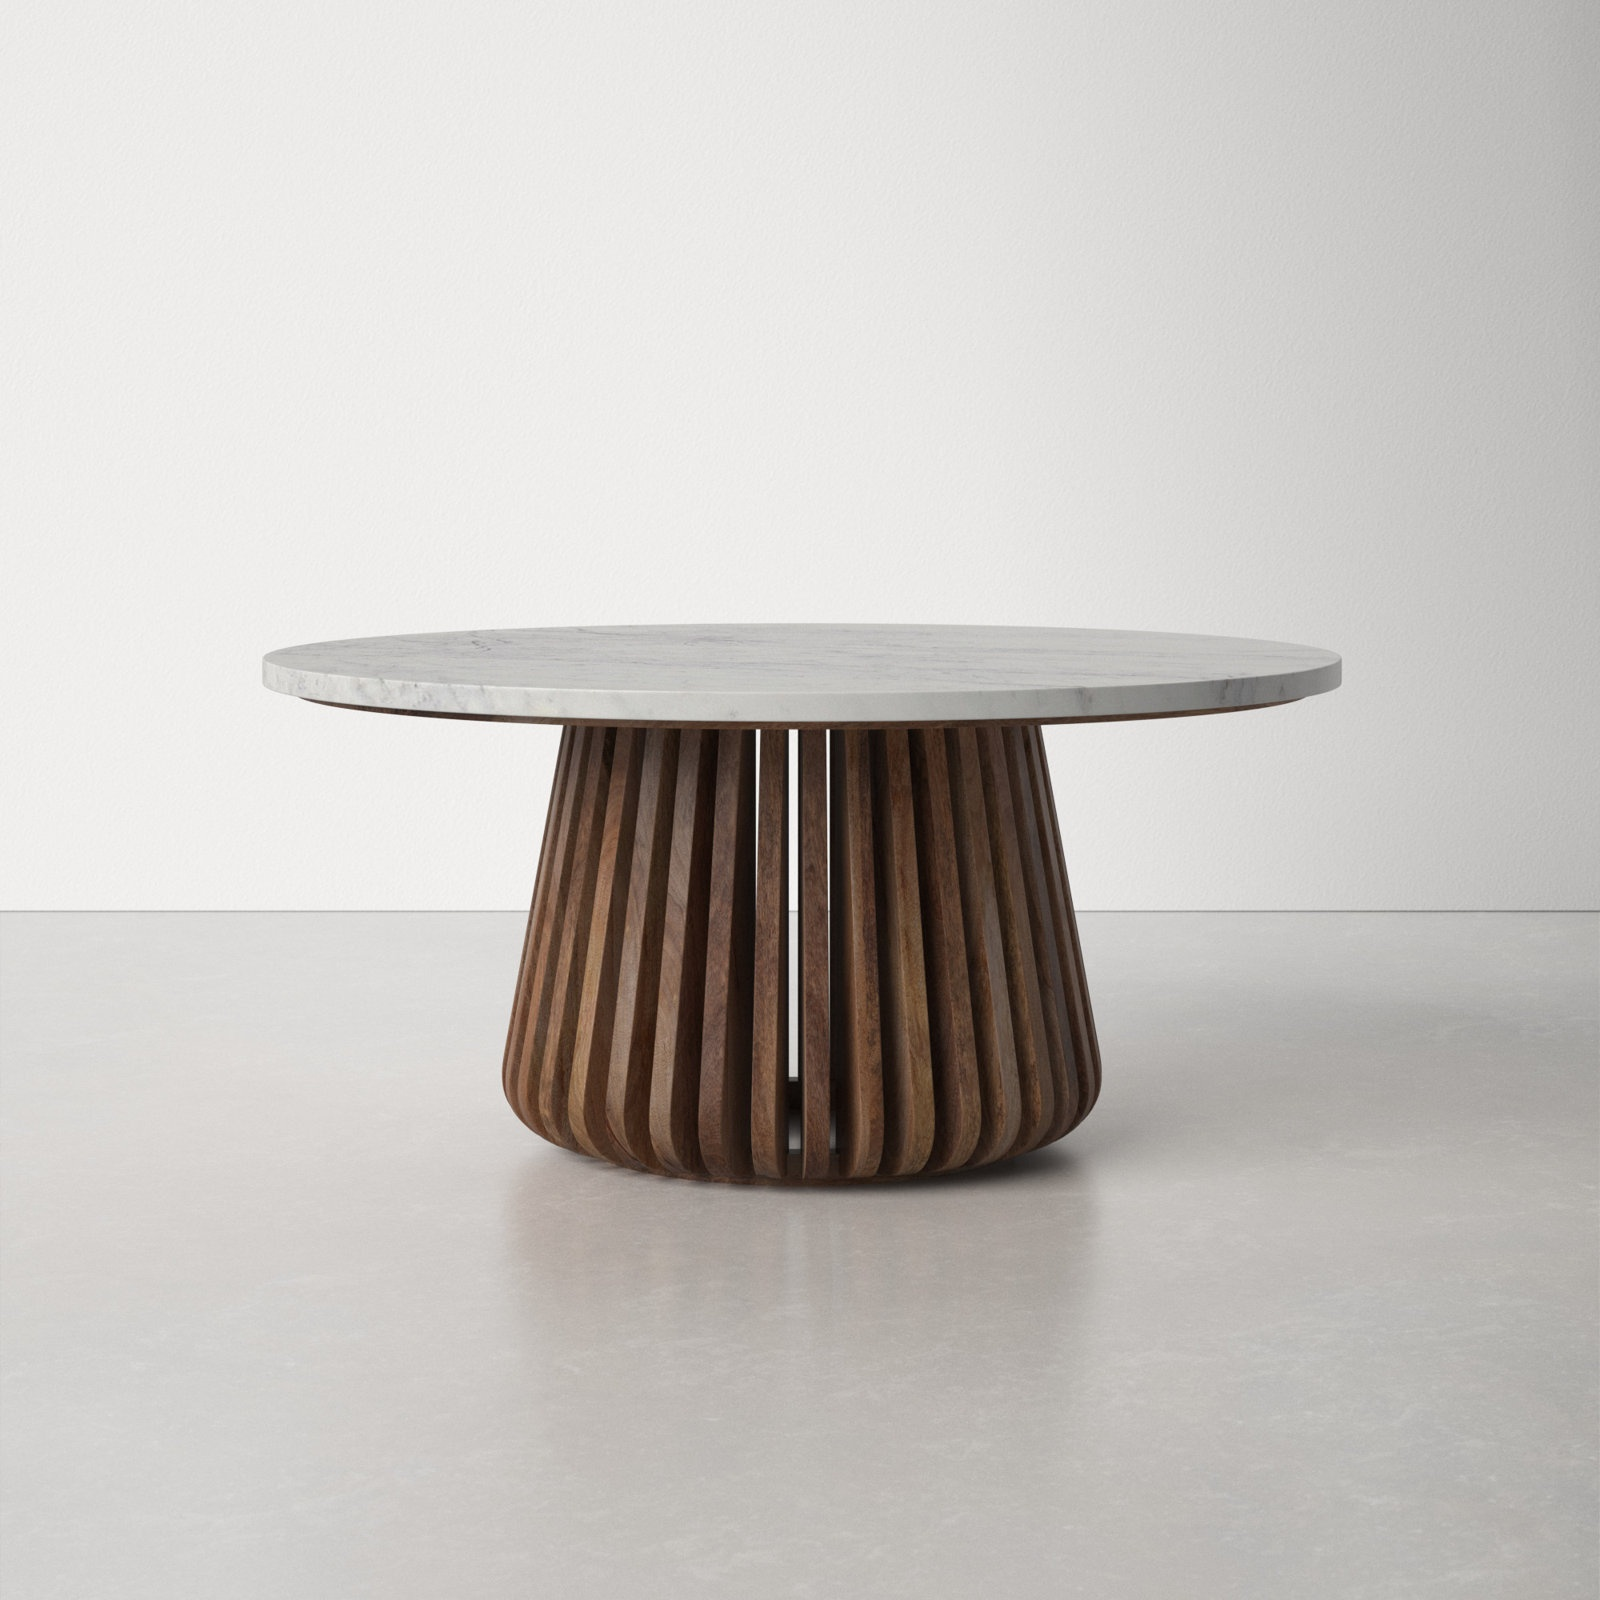obstacle: (264, 626, 1339, 1182)
